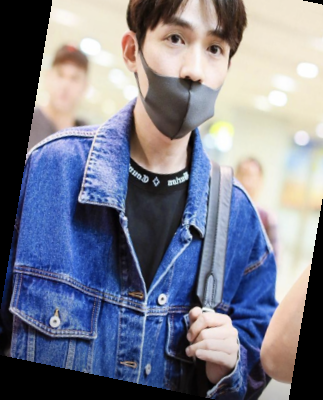mask_weared_incorrect: (96, 1, 263, 144)
